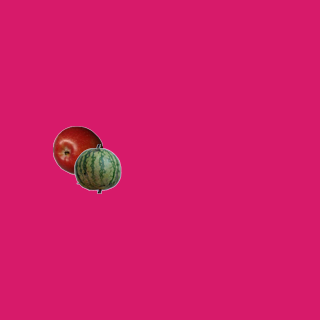Apple Braeburn: (52, 125, 102, 175)
Watermelon: (72, 143, 122, 193)
